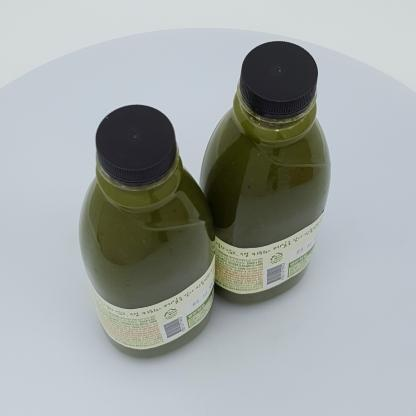-----------700ML: (200, 40, 331, 304), (79, 104, 215, 357)
